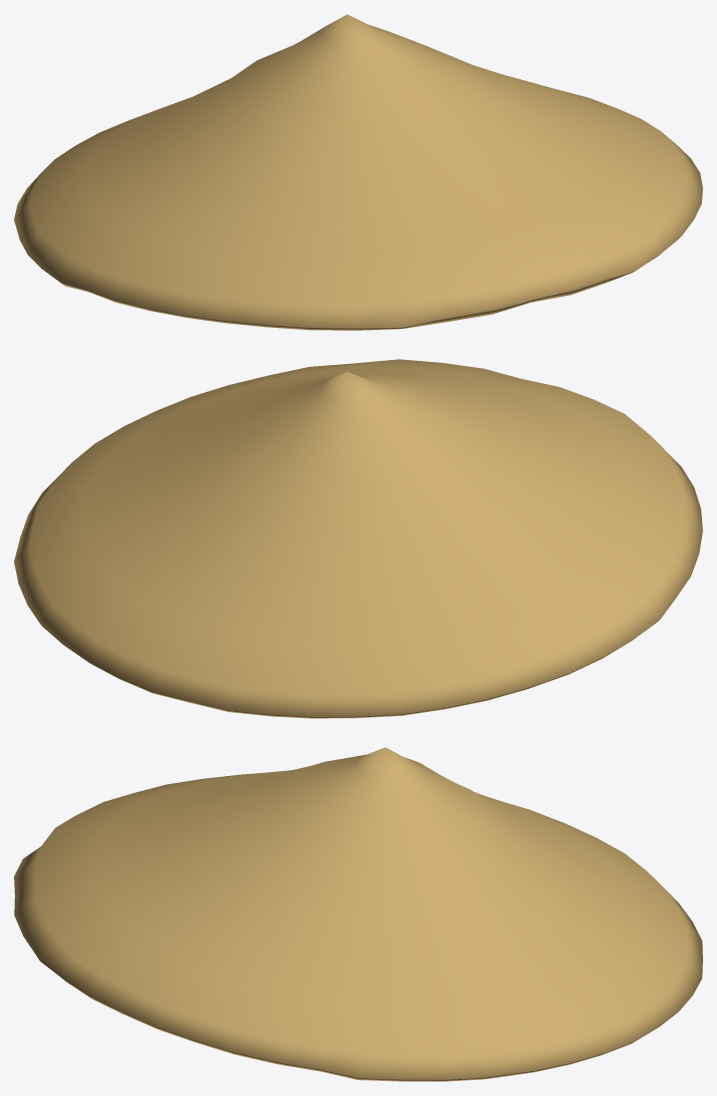
The model's file is kasa.glb.
The picture shows the model from 3 angles, top to bottom: view 1: azimuth 30°, elevation 25°; view 2: azimuth 150°, elevation 25°; view 3: azimuth 270°, elevation 25°; orthographic projection.
Visible parts, largest first — view 1: kasa; view 2: kasa; view 3: kasa.
Part boxes in pixels (x1,y1,x2,y2): kasa: [14, 14, 702, 330]; kasa: [14, 359, 702, 718]; kasa: [14, 747, 702, 1081].
Bounding box in the file's own units: 0.4987 × 0.1726 × 0.4973.
